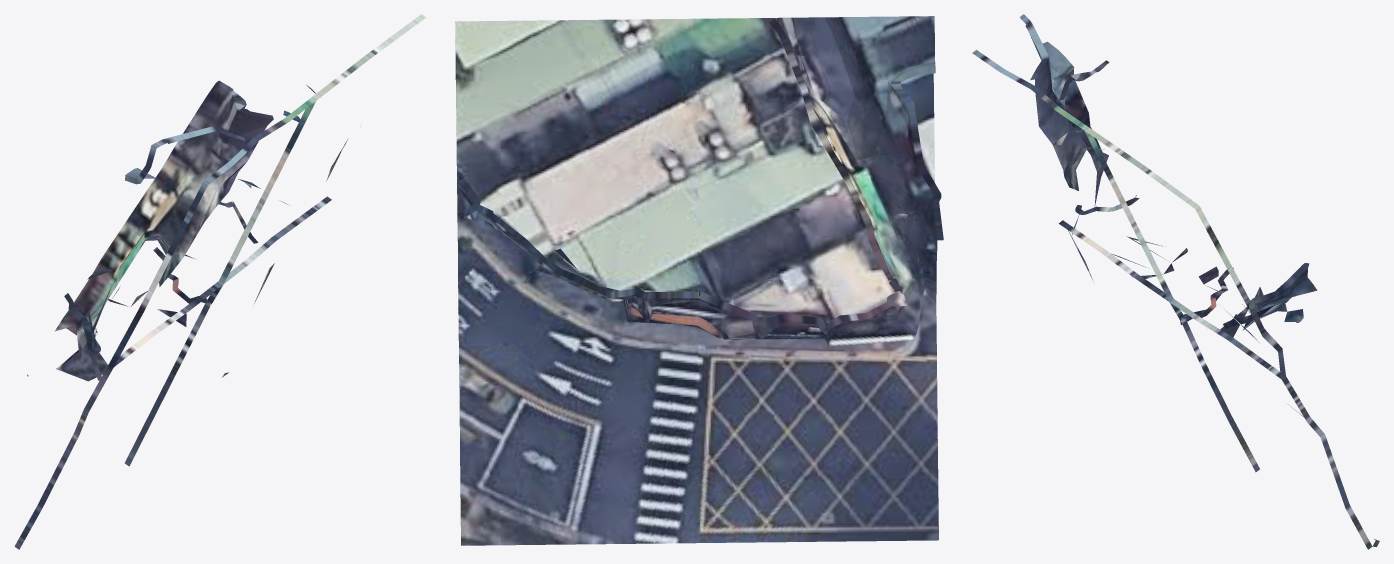
The picture shows the model from 3 angles, left to right: view 1: azimuth 30°, elevation 25°; view 2: azimuth 150°, elevation 25°; view 3: azimuth 270°, elevation 25°; orthographic projection. The views are drawn at different scales.
Bounding box in the file's own units: 38.41 × 37.02 × 32.92.
1 material, 1 textured.
